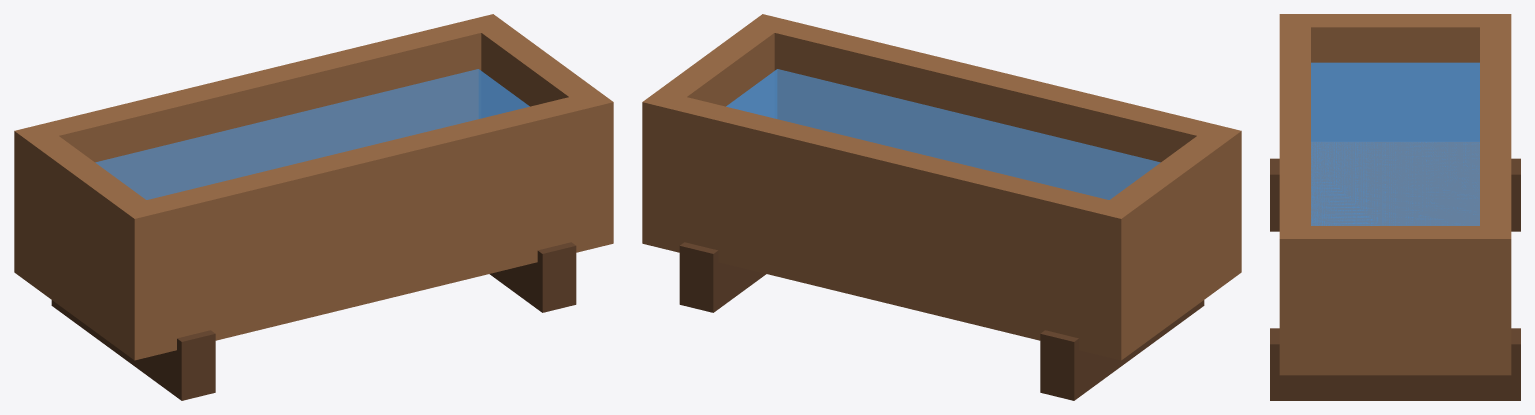
File: Trough.fbx
The picture shows the model from 3 angles, left to right: view 1: azimuth 30°, elevation 25°; view 2: azimuth 150°, elevation 25°; view 3: azimuth 270°, elevation 25°; orthographic projection. The views are drawn at different scales.
Visible parts, largest first — view 1: Wood, Water, Legs; view 2: Wood, Water, Legs; view 3: Wood, Water, Legs.
Boxes of the visible parts, box(x1,y1,x2,y2) form: Wood: box(14, 14, 613, 360); Water: box(95, 69, 529, 199); Legs: box(51, 242, 576, 400); Wood: box(642, 14, 1241, 360); Water: box(726, 69, 1160, 199); Legs: box(679, 242, 1204, 400); Wood: box(1279, 14, 1511, 375); Water: box(1311, 62, 1479, 225); Legs: box(1270, 158, 1520, 400).
Size of the model in its own units: 4.25 by 1.6 by 2.
